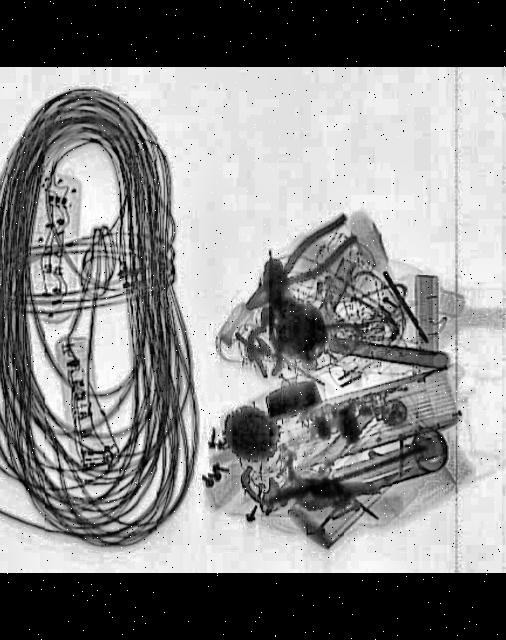Pliers: (232, 208, 370, 322)
